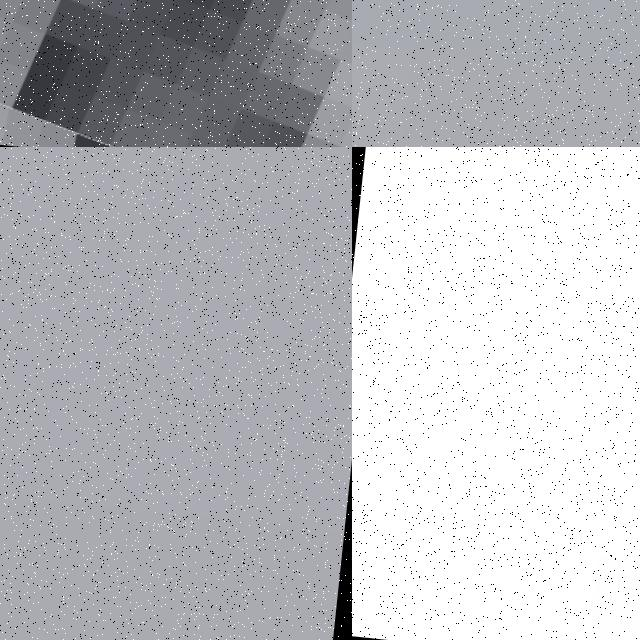drone: (0, 0, 352, 147)
